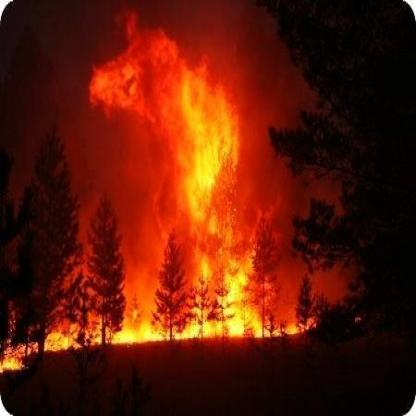fire: (10, 18, 322, 370)
